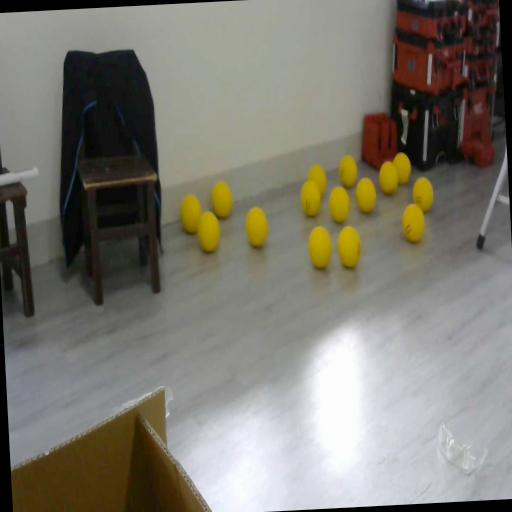FUEL: (306, 224, 333, 270), (195, 208, 222, 254), (244, 205, 270, 249), (336, 224, 362, 268), (400, 202, 426, 243), (210, 179, 234, 219), (354, 176, 378, 214), (180, 194, 202, 234), (328, 184, 350, 224), (412, 176, 434, 213), (307, 163, 328, 198), (338, 154, 358, 187), (392, 151, 412, 184)
